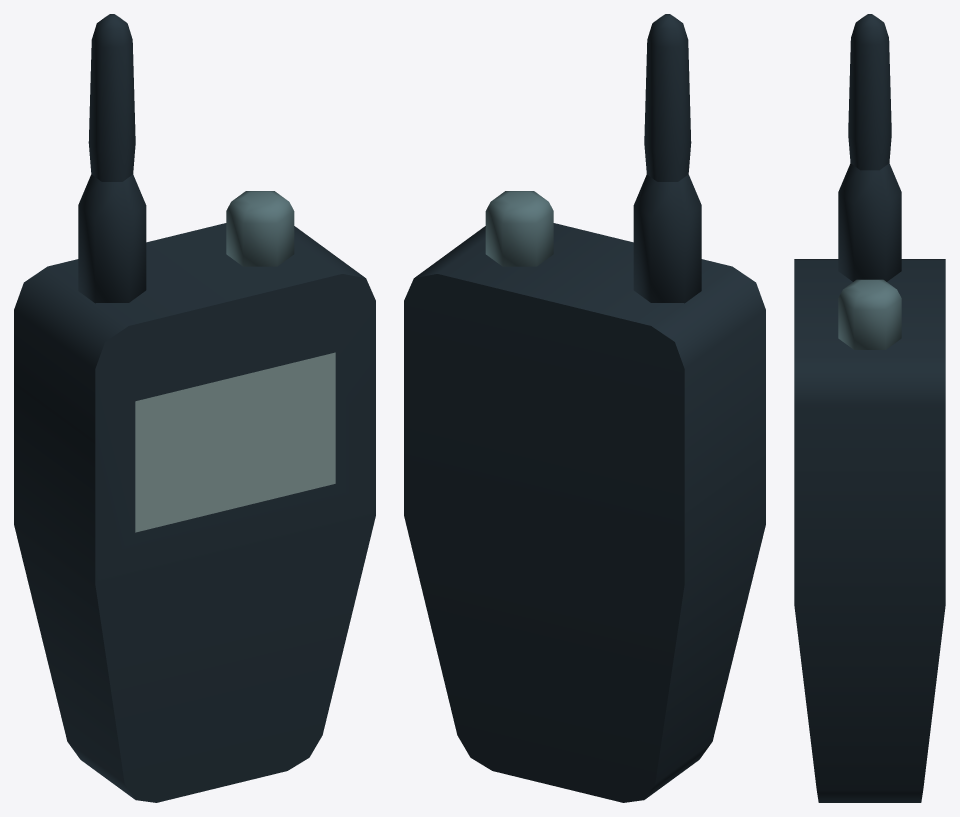
File: Transmitter.fbx
3 renders of one model, left to right at view 1: azimuth 30°, elevation 25°; view 2: azimuth 150°, elevation 25°; view 3: azimuth 270°, elevation 25°, orthographic. The views are drawn at different scales.
Visible parts, largest first — view 1: Transmitter; view 2: Transmitter; view 3: Transmitter.
Part boxes in pixels (bbox=[...]): Transmitter: bbox=[14, 14, 375, 802]; Transmitter: bbox=[404, 14, 765, 802]; Transmitter: bbox=[794, 14, 945, 802].
Bounding box in the file's own units: 15.76 × 41.42 × 7.91.
